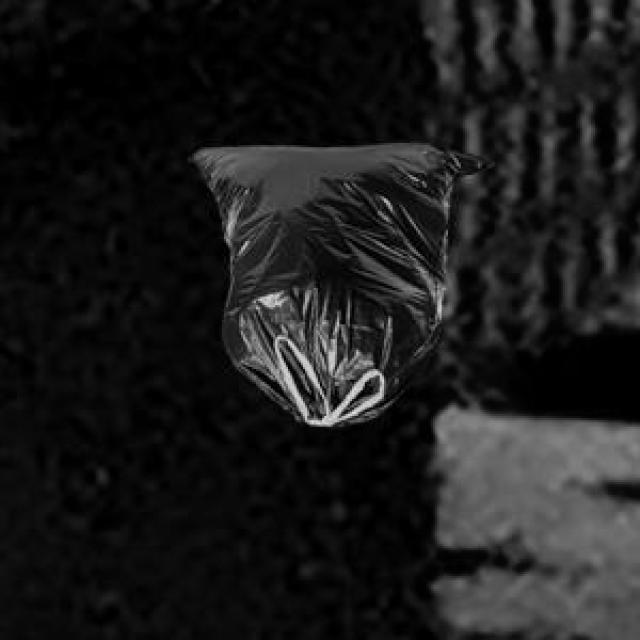miscellaneous trash: (184, 139, 489, 422)
